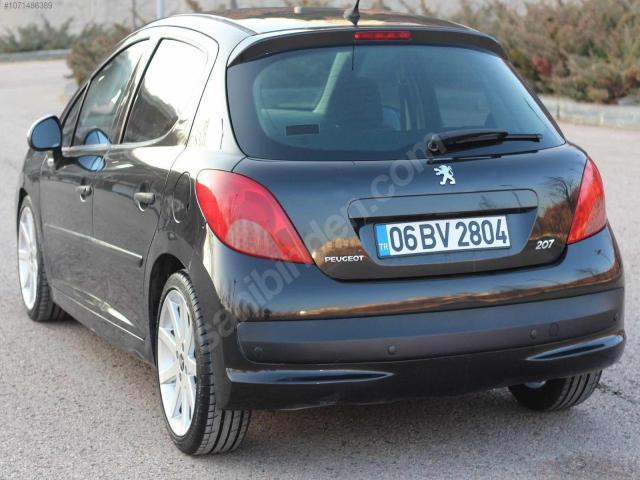plaka: (376, 216, 510, 258)
